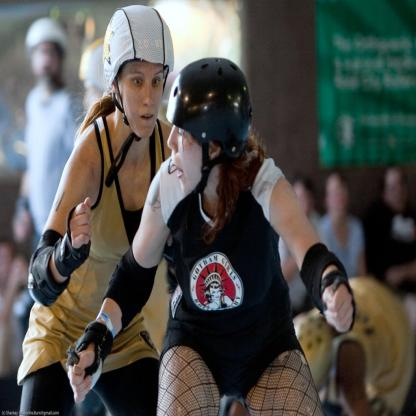Helmet: (104, 2, 172, 189), (165, 75, 252, 210), (24, 18, 65, 53), (80, 38, 105, 94)
